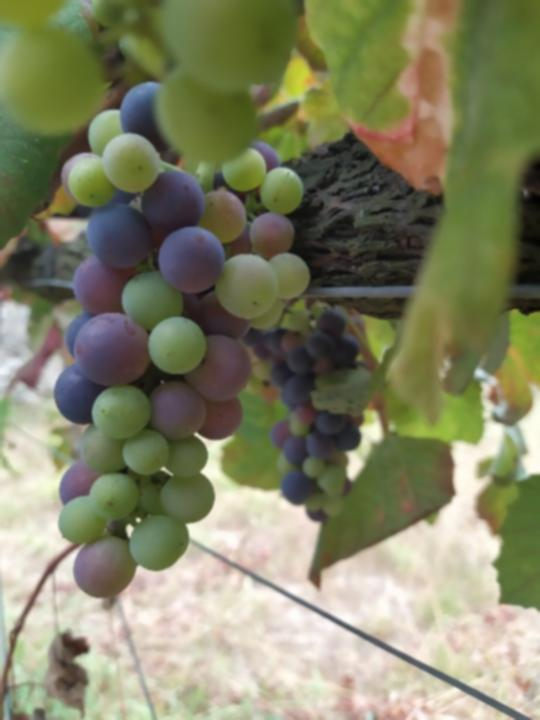grape: (52, 77, 314, 600)
